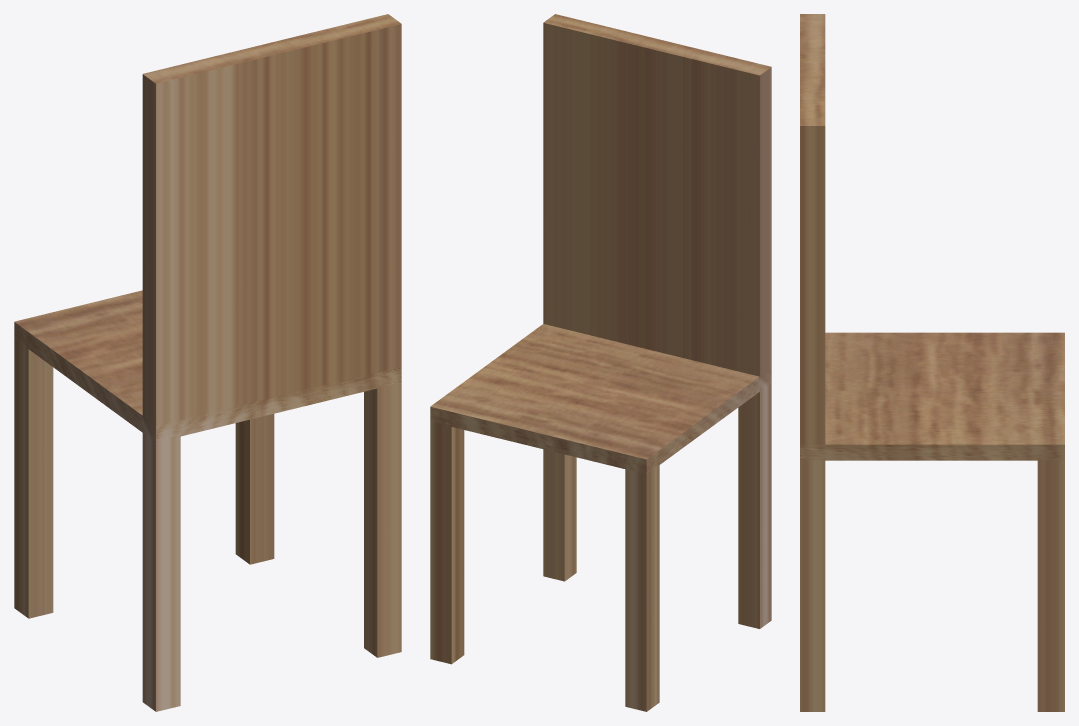
The model's file is chair.glb.
The picture shows the model from 3 angles, left to right: view 1: azimuth 30°, elevation 25°; view 2: azimuth 150°, elevation 25°; view 3: azimuth 270°, elevation 25°; orthographic projection. The views are drawn at different scales.
Parts seen in each view (by area): view 1: Cube; view 2: Cube; view 3: Cube.
Part boxes in pixels (bbox=[...]): Cube: bbox=[14, 14, 401, 711]; Cube: bbox=[430, 14, 771, 711]; Cube: bbox=[800, 14, 1064, 711].
Bounding box in the file's own units: 2 × 4.88 × 2.
1 material, 1 textured.
